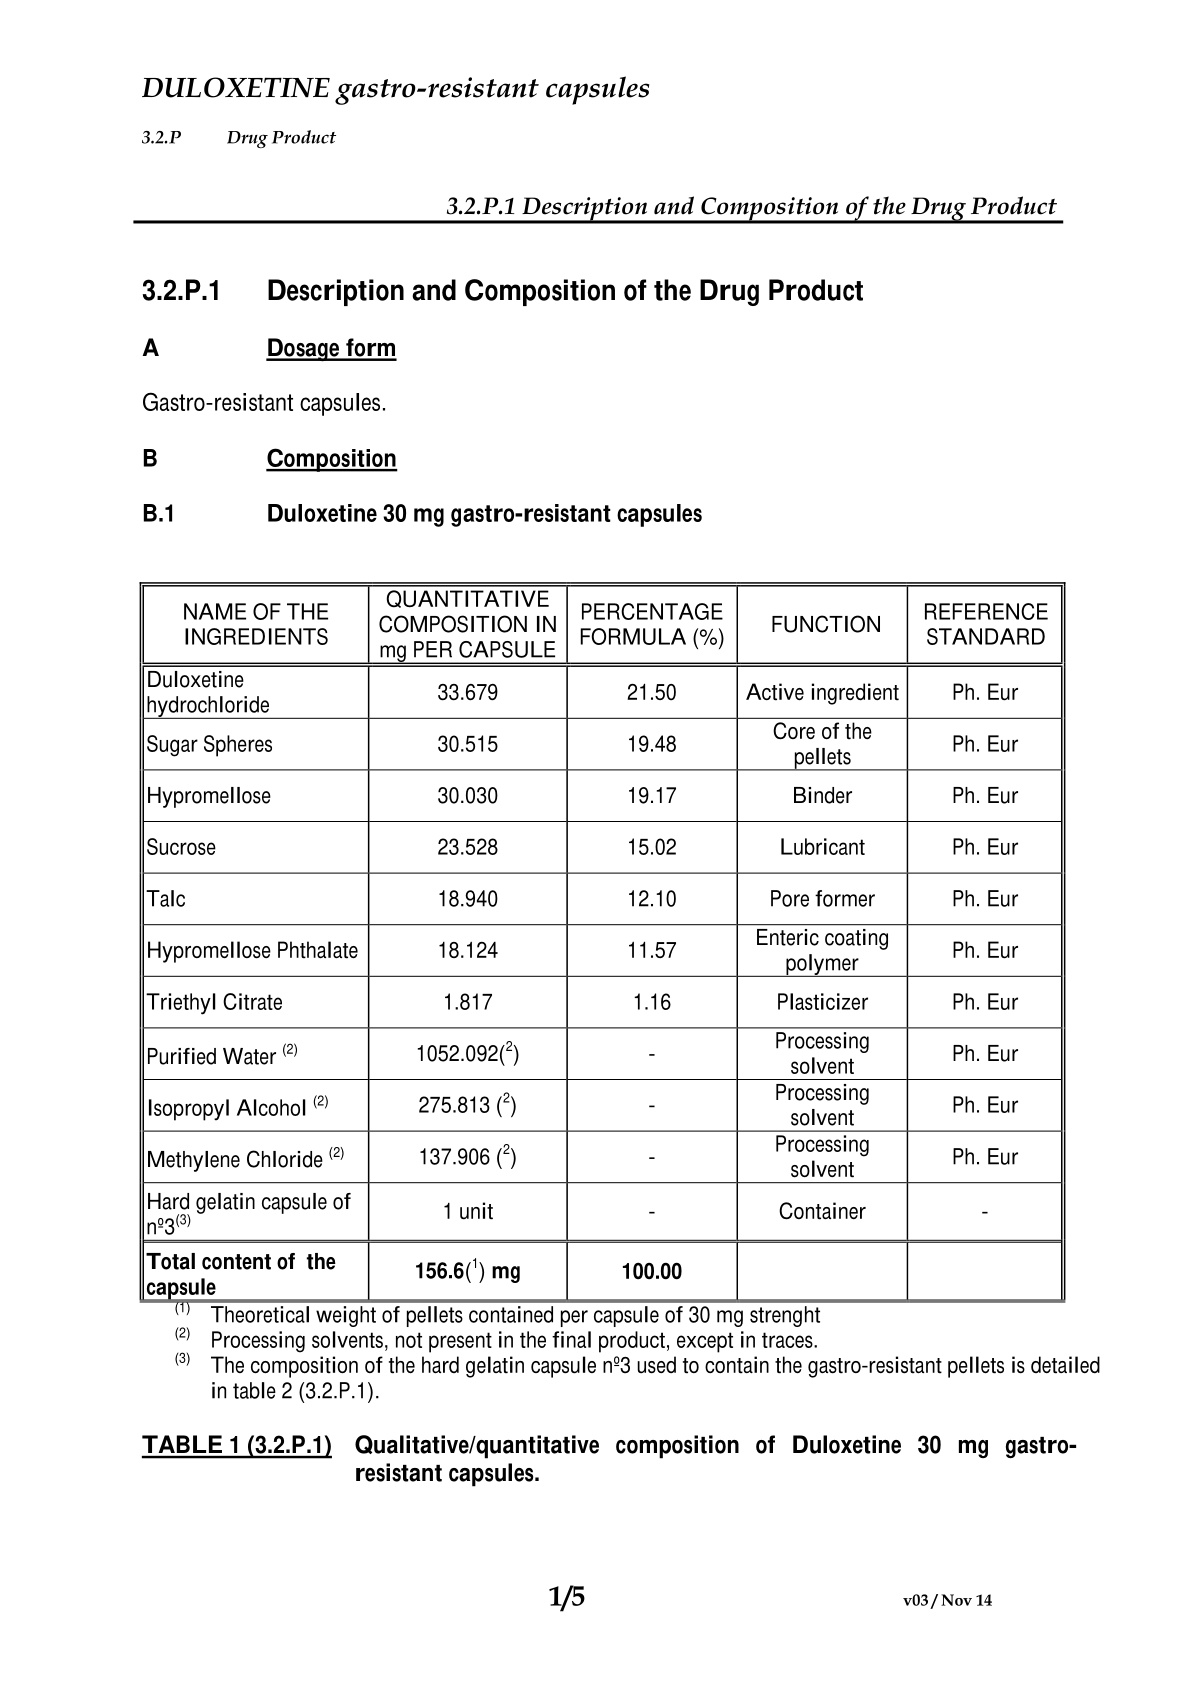full_lined: (139, 581, 1066, 1303)
